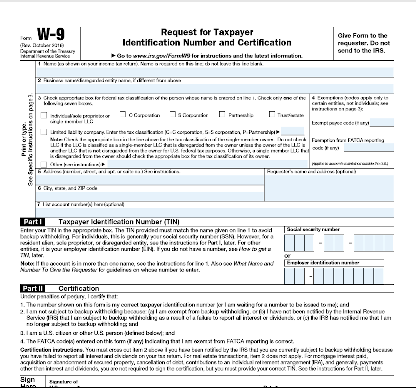checkbox: (168, 109, 176, 118), (268, 109, 276, 118), (40, 127, 48, 136), (40, 111, 48, 119), (118, 110, 126, 118), (218, 110, 226, 118), (40, 160, 48, 168)
textbox: (34, 199, 395, 220), (34, 59, 395, 78), (34, 76, 395, 95), (262, 167, 396, 203), (34, 167, 265, 186), (34, 184, 265, 203), (312, 266, 385, 285), (353, 233, 395, 252), (283, 233, 315, 252), (283, 266, 306, 285), (323, 233, 345, 252)
textline: (342, 142, 396, 153), (280, 126, 306, 137), (369, 117, 395, 128)
